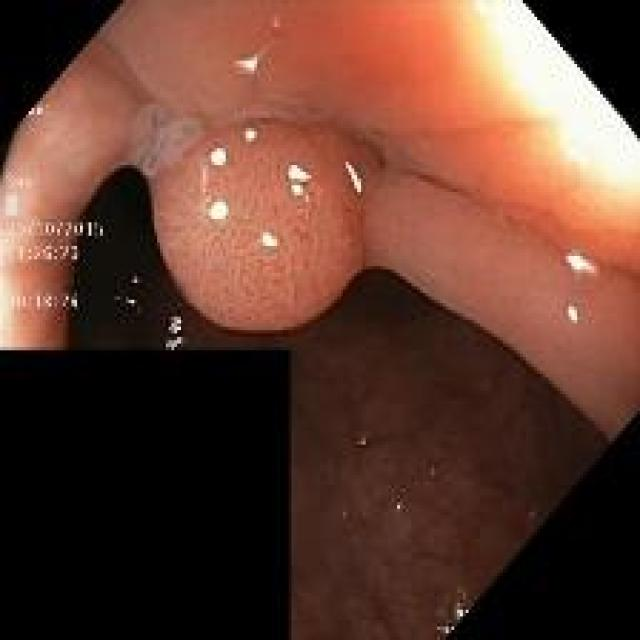Polyps: (150, 121, 382, 332)
